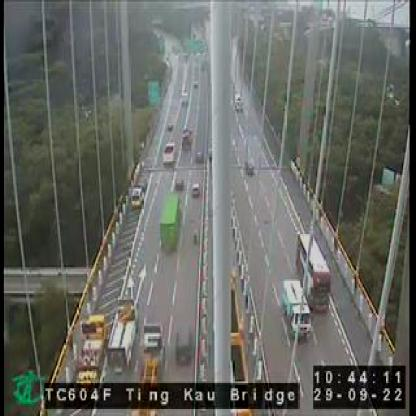Bus: (295, 230, 332, 314)
Car: (172, 324, 191, 361), (240, 154, 254, 175), (183, 126, 194, 151), (189, 176, 200, 198), (129, 187, 140, 206), (172, 174, 183, 188), (195, 147, 203, 165), (164, 121, 174, 130)
Truck: (130, 320, 164, 413), (70, 310, 104, 402), (108, 297, 136, 370), (282, 278, 313, 341), (157, 191, 177, 255), (162, 141, 176, 168), (231, 90, 243, 111)
